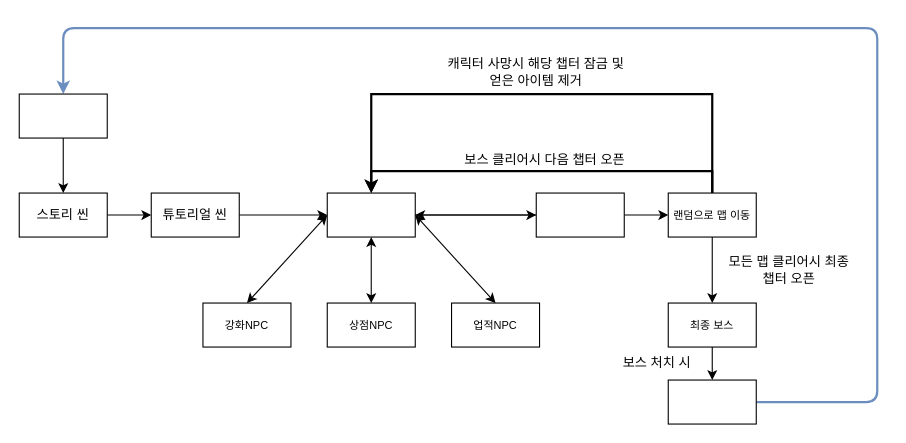
This 906x443 diagram has some shape labels left out. Here are the shapes that lost their labels. From the top down, the centre of each, then its label:
At pixel 62 115: "타이틀 씬".
At pixel 370 214: "메인 (마을에서 시작)".
At pixel 579 214: "각 챕터 포탈을 통해 던전 이동".
At pixel 711 401: "엔딩 씬".
